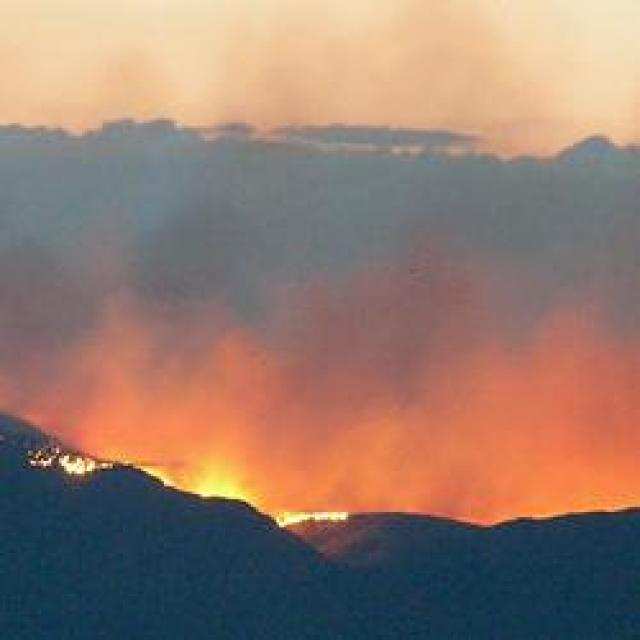fire: (45, 441, 374, 534)
